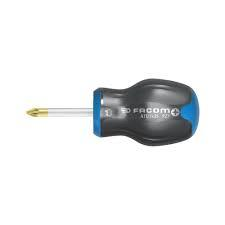screwdriver: (26, 77, 199, 146)
